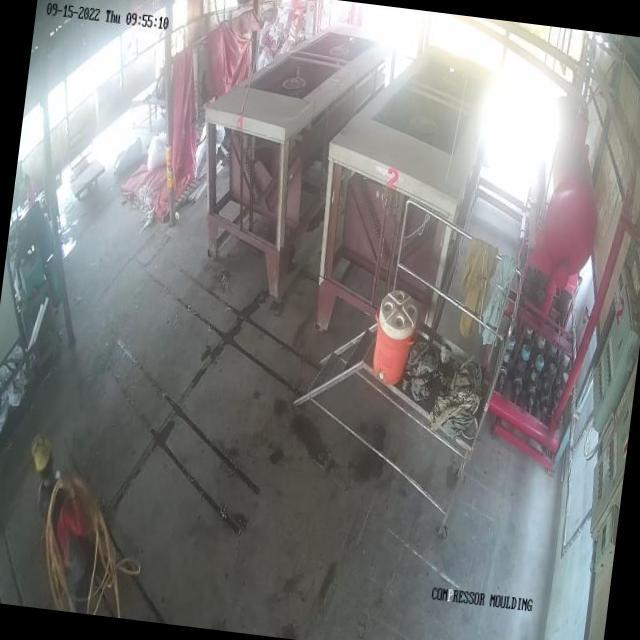person: (12, 432, 124, 611)
